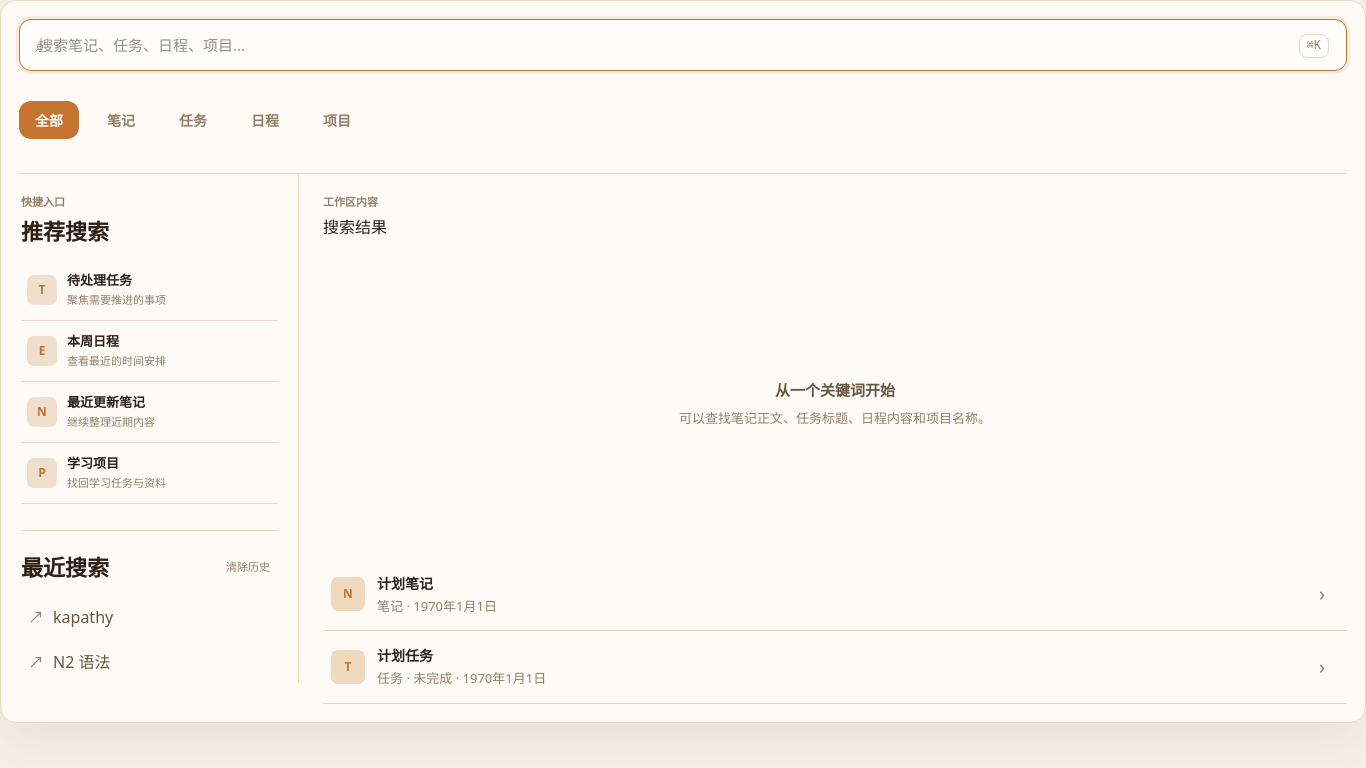
Test: Search workspace › clears stored recent searches
The image size is (1366, 768).
Check: the button "↗ kapathy" is shown, box x1=21 y1=596 x2=278 y2=638
Click the button "清除历史".
click(248, 567)  # box x1=218 y1=551 x2=278 y2=583
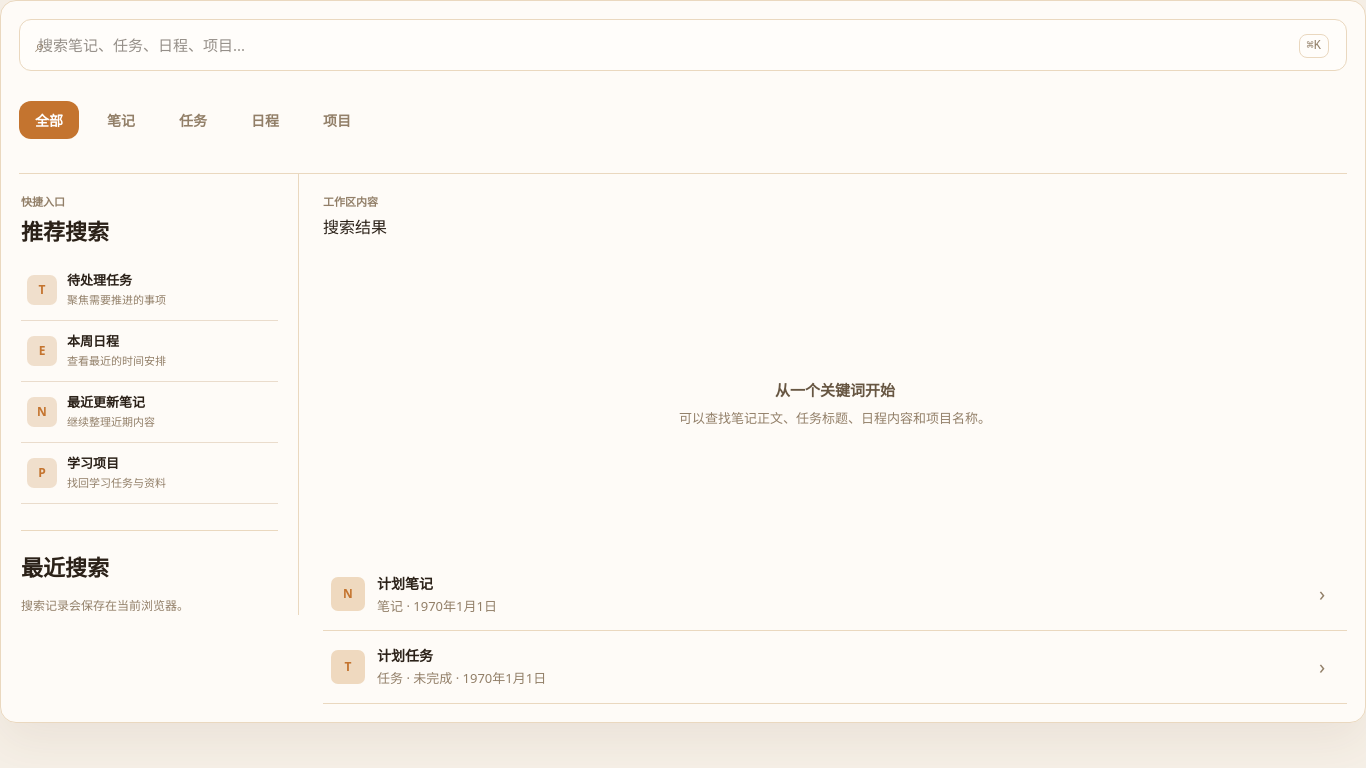
Check: the button "kapathy" is gone
